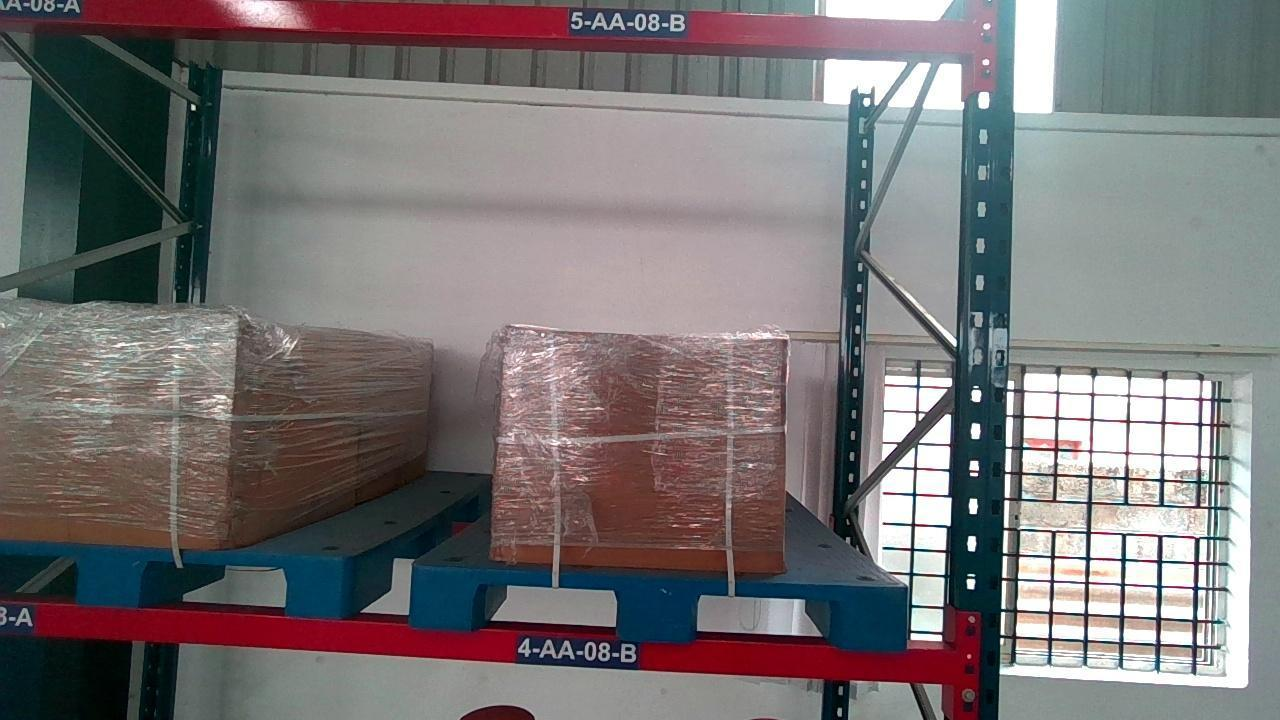h_rack: (0, 604, 955, 686), (0, 0, 964, 56)
small_pallet: (417, 570, 910, 640), (0, 540, 343, 616)
